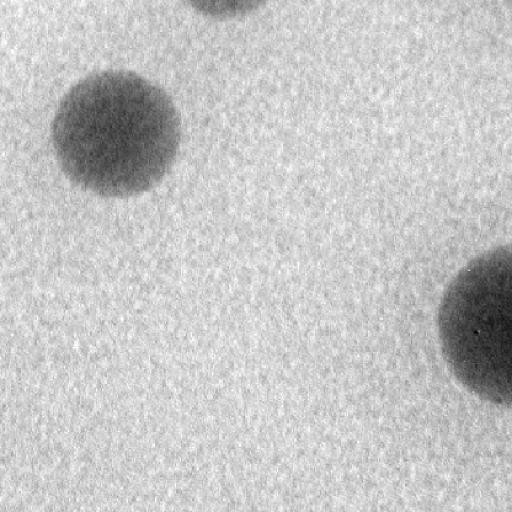Nanoparticles: (51, 67, 183, 201), (436, 243, 512, 406)
